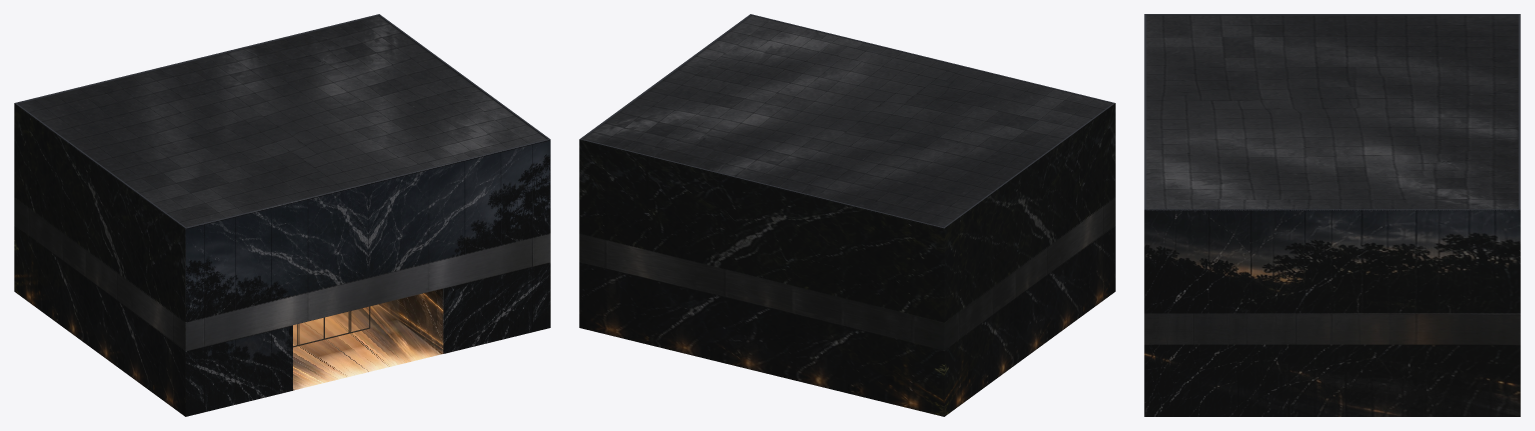
Rendered from pavilion.glb.
3 renders of one model, left to right at view 1: azimuth 30°, elevation 25°; view 2: azimuth 150°, elevation 25°; view 3: azimuth 270°, elevation 25°, orthographic. The views are drawn at different scales.
Parts seen in each view (by area): view 1: Roof • sealed graphite panels, South elevation • bookmatched marble, West elevation • marble panels, South elevation • brushed stainless steel, Entrance • onyx lobby, reveals, soffit and threshold, West elevation • metal band, Side perimeter coping (×2), Rear perimeter coping, Front perimeter coping; view 2: Roof • sealed graphite panels, North elevation • marble panels, West elevation • marble panels, North elevation • metal band, West elevation • metal band, Front perimeter coping, Rear perimeter coping, Side perimeter coping; view 3: Roof • sealed graphite panels, East elevation • marble panels, East elevation • metal band, Side perimeter coping (×2), Rear perimeter coping, Front perimeter coping.
Part boxes in pixels (bbox=[...]): Roof • sealed graphite panels: bbox=[18, 16, 546, 227]; South elevation • bookmatched marble: bbox=[185, 139, 550, 416]; West elevation • marble panels: bbox=[14, 103, 185, 416]; South elevation • brushed stainless steel: bbox=[185, 234, 550, 351]; Entrance • onyx lobby, reveals, soffit and threshold: bbox=[293, 288, 443, 390]; West elevation • metal band: bbox=[14, 198, 185, 350]; Side perimeter coping (×2): bbox=[15, 14, 549, 228]; Rear perimeter coping: bbox=[15, 14, 379, 103]; Front perimeter coping: bbox=[185, 138, 549, 228]; Roof • sealed graphite panels: bbox=[583, 15, 1112, 227]; North elevation • marble panels: bbox=[579, 139, 944, 416]; West elevation • marble panels: bbox=[944, 103, 1115, 416]; North elevation • metal band: bbox=[579, 234, 944, 351]; West elevation • metal band: bbox=[944, 198, 1115, 350]; Front perimeter coping: bbox=[750, 14, 1114, 103]; Rear perimeter coping: bbox=[579, 138, 944, 228]; Side perimeter coping: bbox=[580, 14, 751, 139]; Roof • sealed graphite panels: bbox=[1146, 15, 1518, 208]; East elevation • marble panels: bbox=[1144, 209, 1520, 416]; East elevation • metal band: bbox=[1144, 313, 1520, 344]; Side perimeter coping (×2): bbox=[1146, 14, 1518, 210]; Rear perimeter coping: bbox=[1518, 14, 1520, 210]; Front perimeter coping: bbox=[1144, 14, 1146, 209].
Size of the model in its own units: 32 by 15.8 by 26.
Materials: 13 (10 with a texture image).
